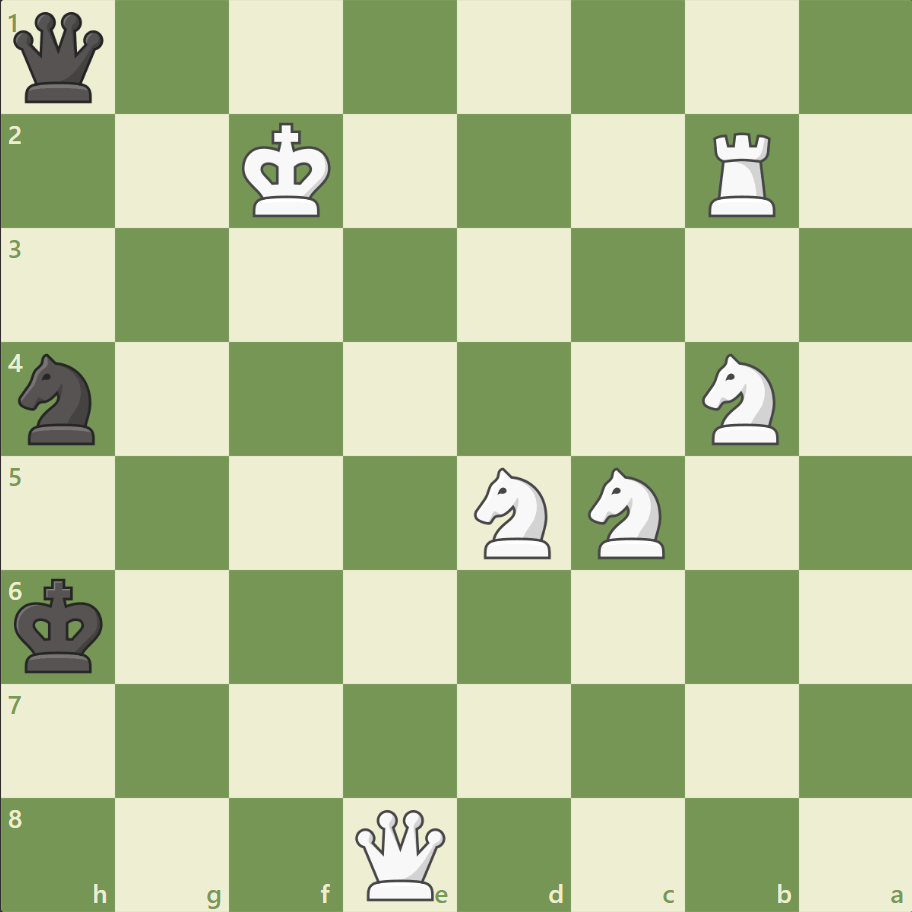K: (238, 117, 338, 225)
N: (579, 461, 676, 564), (465, 461, 562, 564), (692, 348, 789, 450)
Q: (351, 804, 450, 903)
R: (700, 125, 783, 222)
k: (11, 571, 111, 679)
n: (11, 348, 108, 450)
q: (10, 9, 109, 108)
